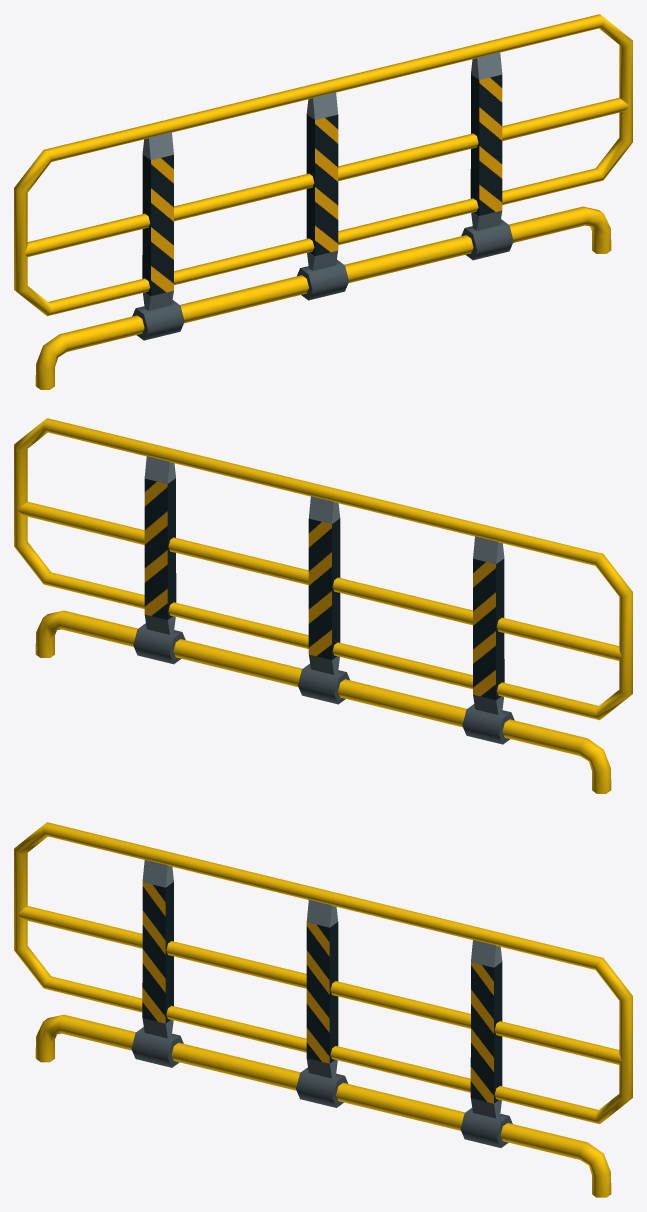
Rendered from Fence_type_C_004.glb.
3 views of the same model, one above another, from view 1: azimuth 30°, elevation 25°; view 2: azimuth 150°, elevation 25°; view 3: azimuth 330°, elevation 25° (orthographic).
Visible parts, largest first — view 1: Fence_type_C_004; view 2: Fence_type_C_004; view 3: Fence_type_C_004.
Boxes of the visible parts, x1,y1,x2,y2 form: Fence_type_C_004: (14, 14, 632, 389); Fence_type_C_004: (14, 418, 632, 793); Fence_type_C_004: (14, 822, 632, 1197).
Bounding box in the file's own units: 3.9 × 1.42 × 0.1839.
Materials: 1 (1 with a texture image).
